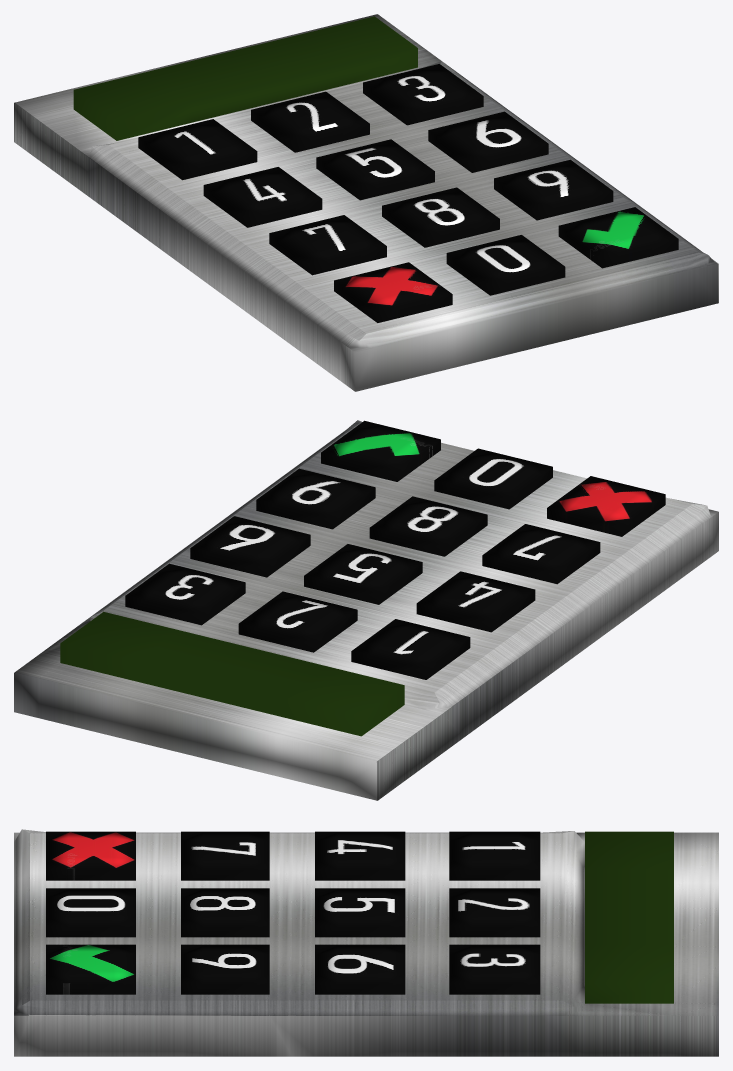
Rendered from ScreenCode_1.fbx.
3 views of the same model, one above another, from view 1: azimuth 30°, elevation 25°; view 2: azimuth 150°, elevation 25°; view 3: azimuth 270°, elevation 25° (orthographic). The views are drawn at different scales.
Parts seen in each view (by area): view 1: pCube1; view 2: pCube1; view 3: pCube1.
Part boxes in pixels (<box>): pCube1: <box>14,14,718,391</box>; pCube1: <box>14,420,718,800</box>; pCube1: <box>14,829,718,1056</box>.
Size of the model in its own units: 9.68 by 1.56 by 15.75.
14 materials, 13 textured.
